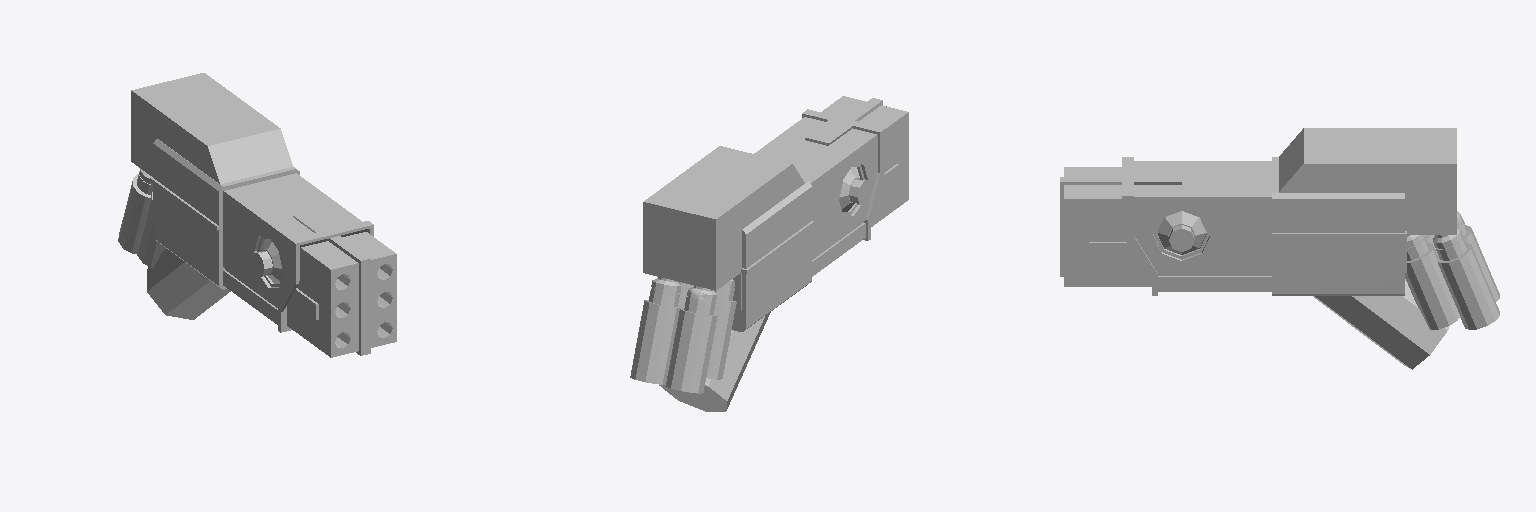
Rendered from Laser Low.OBJ.
3 views of the same model, side by side, from view 1: azimuth 30°, elevation 25°; view 2: azimuth 150°, elevation 25°; view 3: azimuth 270°, elevation 25° (orthographic).
Parts seen in each view (by area): view 1: Group48408, Group21800, Group59638, Group10145, Group18852, Group57598, Group439, Group9478, Group3800; view 2: Group48408, Group439, Group21800, Group10145, Group59638, Group18852, Group57598, Group9478, Group12424; view 3: Group21800, Group48408, Group10145, Group439, Group59638, Group18852, Group57598, Group9478, Group12541.
Part boxes in pixels (left/top/right/bottom): Group48408: left=131, top=73, right=292, bottom=183; Group21800: left=223, top=173, right=369, bottom=324; Group59638: left=287, top=232, right=396, bottom=357; Group10145: left=153, top=139, right=299, bottom=289; Group18852: left=147, top=249, right=230, bottom=319; Group57598: left=150, top=177, right=373, bottom=332; Group439: left=118, top=171, right=166, bottom=267; Group9478: left=289, top=236, right=370, bottom=355; Group3800: left=335, top=264, right=392, bottom=348; Group48408: left=643, top=146, right=804, bottom=310; Group439: left=630, top=281, right=736, bottom=393; Group21800: left=754, top=117, right=877, bottom=276; Group10145: left=732, top=180, right=811, bottom=331; Group59638: left=822, top=96, right=908, bottom=226; Group18852: left=659, top=312, right=770, bottom=411; Group57598: left=741, top=109, right=885, bottom=273; Group9478: left=846, top=98, right=898, bottom=194; Group12424: left=651, top=278, right=734, bottom=300; Group21800: left=1134, top=161, right=1271, bottom=291; Group48408: left=1279, top=128, right=1456, bottom=272; Group10145: left=1272, top=157, right=1404, bottom=295; Group439: left=1405, top=218, right=1499, bottom=329; Group59638: left=1064, top=167, right=1157, bottom=286; Group18852: left=1313, top=279, right=1449, bottom=369; Group57598: left=1122, top=157, right=1406, bottom=295; Group9478: left=1060, top=177, right=1157, bottom=276; Group12541: left=1158, top=211, right=1206, bottom=254.
Bounding box in the file's own units: 0.2006 × 0.4474 × 0.8102.